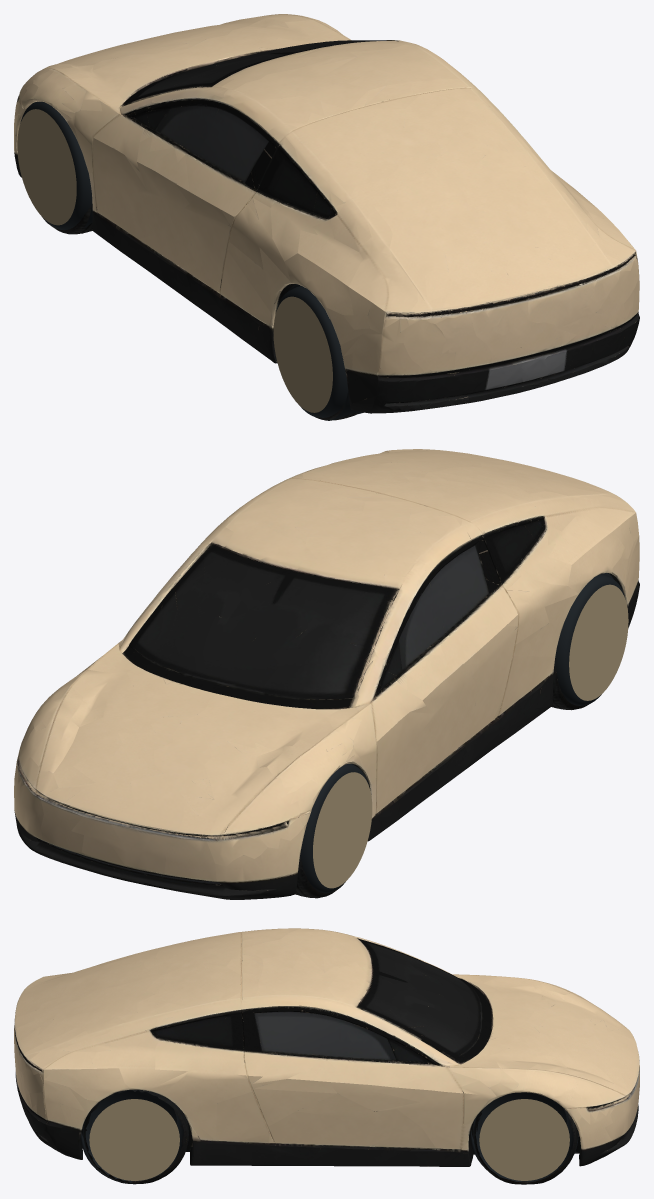
File: cybercab-rigged.glb
3 renders of one model, top to bottom at view 1: azimuth 30°, elevation 25°; view 2: azimuth 150°, elevation 25°; view 3: azimuth 270°, elevation 25°, orthographic. The views are drawn at different scales.
Parts seen in each view (by area): view 1: Body_FixedFenders, Rim_Wheel_RL, Rim_Wheel_FL, Wheel_RL, Wheel_FL; view 2: Body_FixedFenders, Rim_Wheel_FL, Rim_Wheel_RL, Wheel_RL, Wheel_FL; view 3: Body_FixedFenders, Rim_Wheel_RR, Rim_Wheel_FR, FixedLiner_Wheel_RR, FixedLiner_Wheel_FR, Wheel_FR, Wheel_RR.
Part boxes in pixels (x1,y1,x2,y2): Body_FixedFenders: [14, 14, 639, 420]; Rim_Wheel_RL: [273, 296, 332, 412]; Rim_Wheel_FL: [17, 109, 76, 225]; Wheel_RL: [276, 286, 348, 417]; Wheel_FL: [20, 101, 92, 230]; Body_FixedFenders: [14, 449, 639, 899]; Rim_Wheel_FL: [313, 772, 372, 888]; Rim_Wheel_RL: [569, 584, 628, 700]; Wheel_RL: [555, 574, 625, 705]; Wheel_FL: [300, 763, 369, 893]; Body_FixedFenders: [14, 928, 639, 1184]; Rim_Wheel_RR: [89, 1099, 179, 1180]; Rim_Wheel_FR: [479, 1099, 569, 1180]; FixedLiner_Wheel_RR: [81, 1090, 188, 1184]; FixedLiner_Wheel_FR: [470, 1092, 578, 1169]; Wheel_FR: [473, 1105, 573, 1182]; Wheel_RR: [83, 1110, 183, 1183].
Size of the model in its own units: 1.86 by 1.38 by 4.45.
3 materials, 1 textured.
